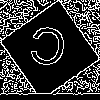C: (25, 25, 69, 77)
